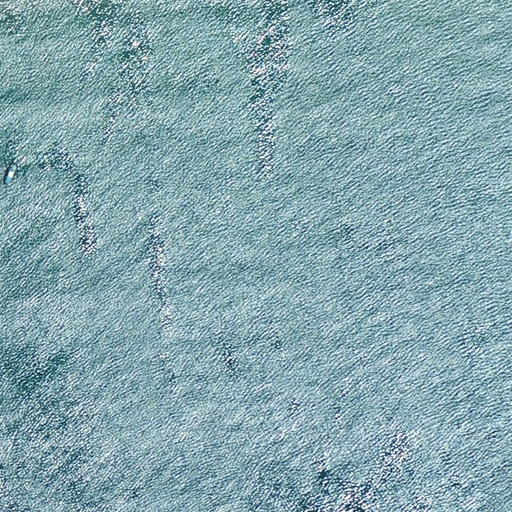ship: (2, 159, 20, 187)
